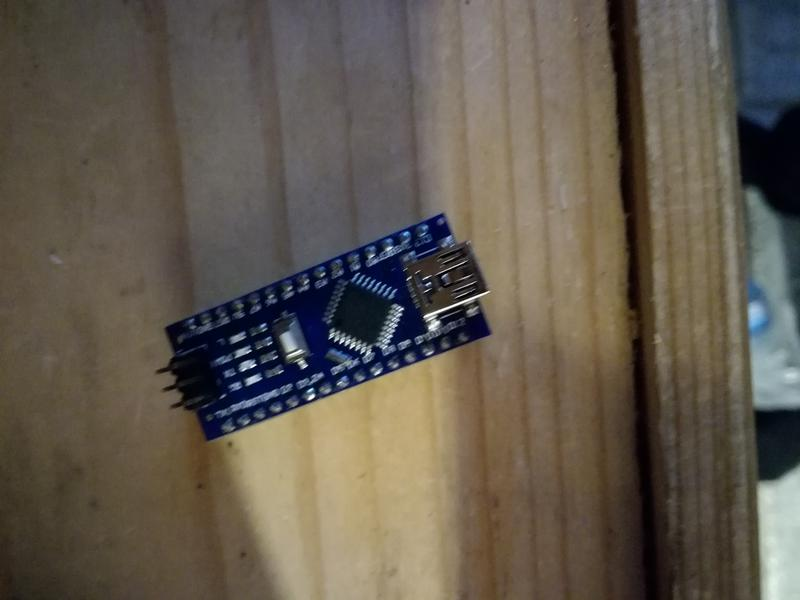Arduino_Nano: (159, 209, 496, 444)
